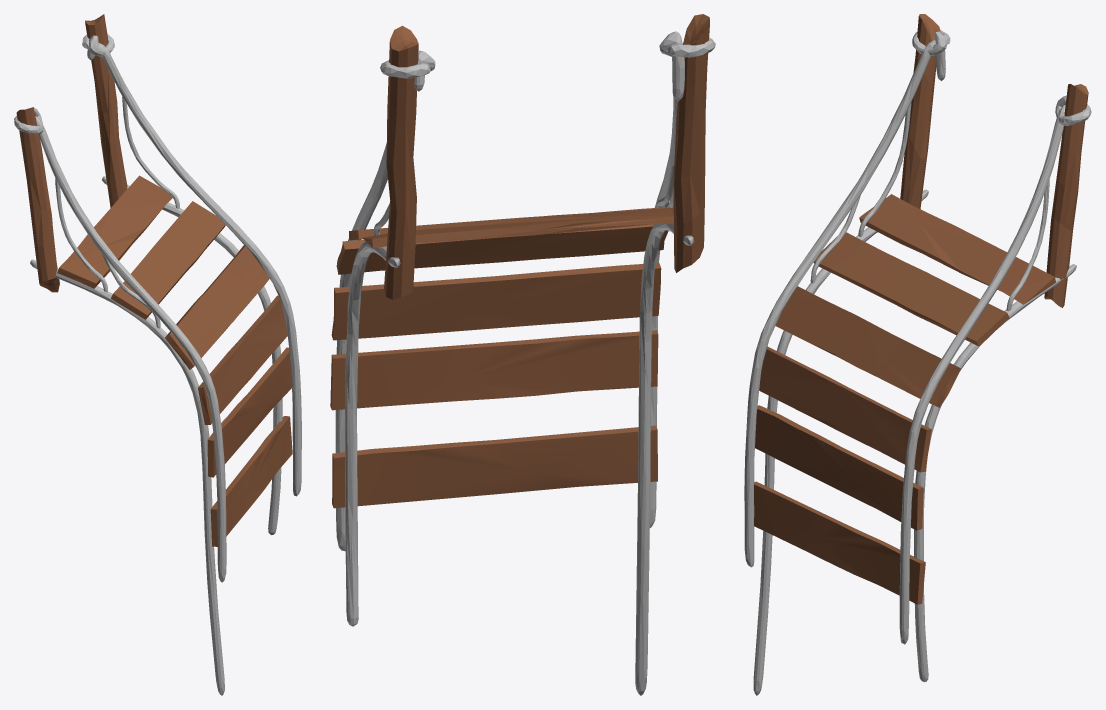
File: ropeLadder.fbx
3 views of the same model, side by side, from view 1: azimuth 30°, elevation 25°; view 2: azimuth 150°, elevation 25°; view 3: azimuth 270°, elevation 25° (orthographic). The views are drawn at different scales.
Visible parts, largest first — view 1: bridge_002, bridge_01_rope001; view 2: bridge_002, bridge_01_rope001; view 3: bridge_002, bridge_01_rope001.
Boxes of the visible parts, <box> form: bridge_002: <box>16,14,292,546</box>; bridge_01_rope001: <box>14,34,301,695</box>; bridge_002: <box>330,14,709,508</box>; bridge_01_rope001: <box>335,31,715,695</box>; bridge_002: <box>754,14,1088,604</box>; bridge_01_rope001: <box>744,30,1091,695</box>.
Bounding box in the file's own units: 6.86 × 13.61 × 6.84.
